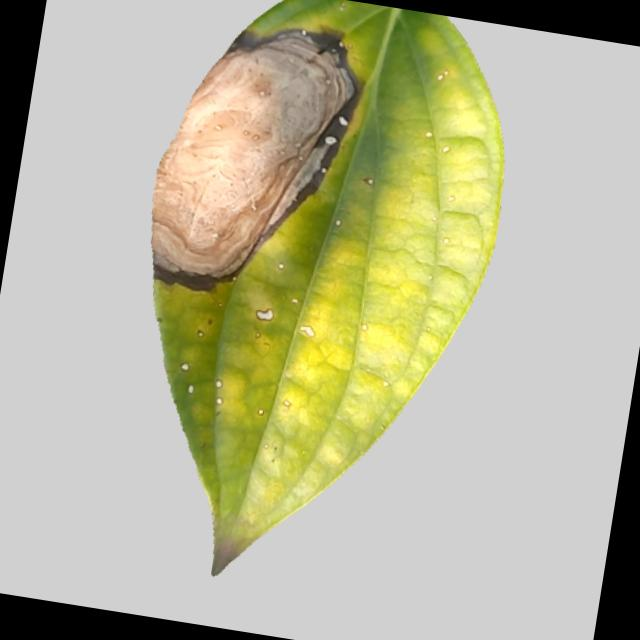leaf-blight: (94, 0, 537, 618)
